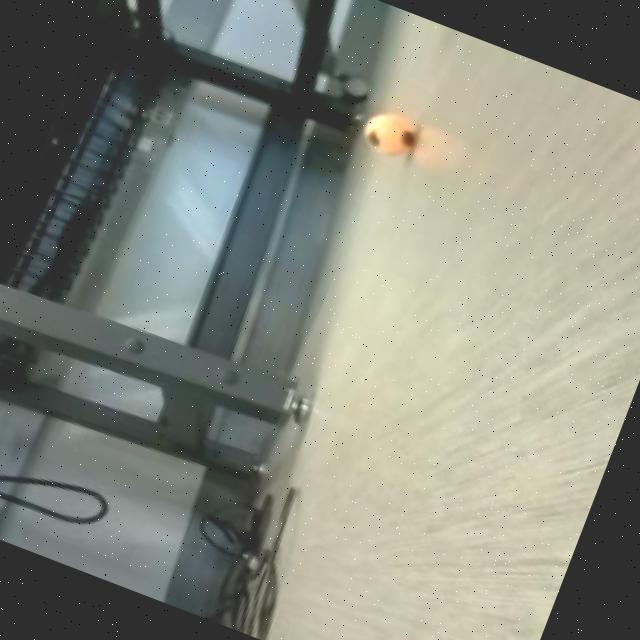ping-pong-ball: (354, 101, 430, 168)
